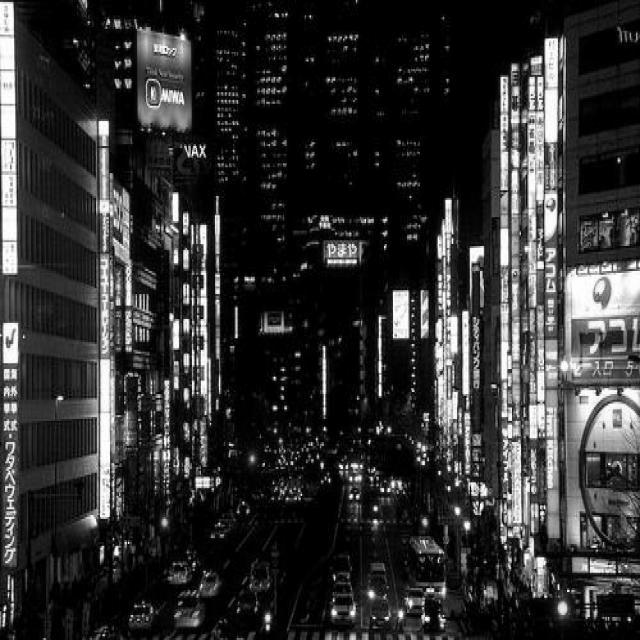vehicle: (218, 359, 451, 637), (409, 536, 447, 597), (174, 592, 205, 629), (329, 590, 356, 632), (128, 600, 159, 634), (367, 596, 393, 632), (366, 577, 390, 605), (198, 573, 224, 597), (251, 557, 269, 589), (168, 563, 193, 585), (332, 571, 354, 591), (209, 525, 231, 543), (237, 502, 251, 518), (348, 488, 360, 504), (380, 482, 391, 496)
